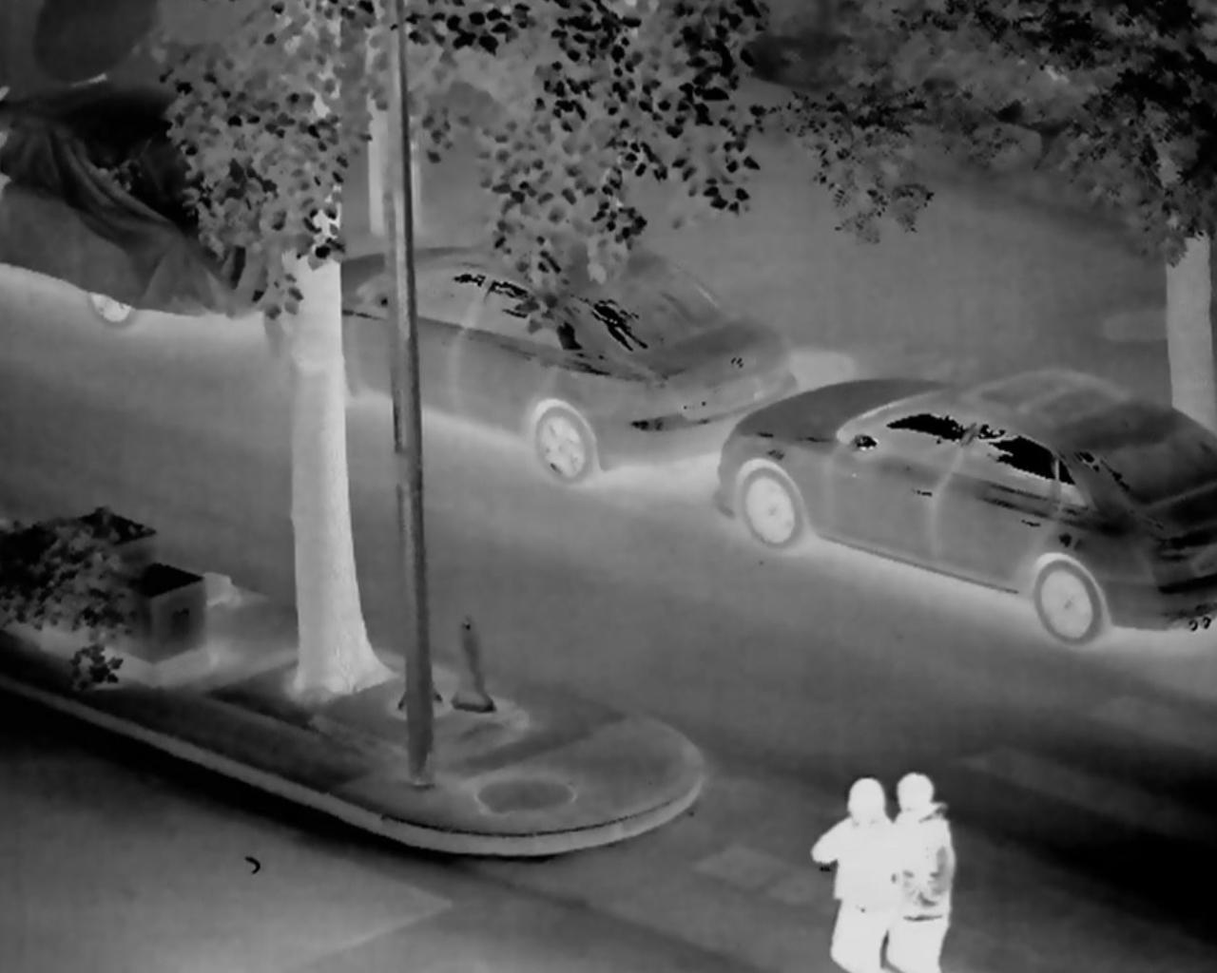person: (809, 760, 893, 973), (890, 774, 967, 973)
